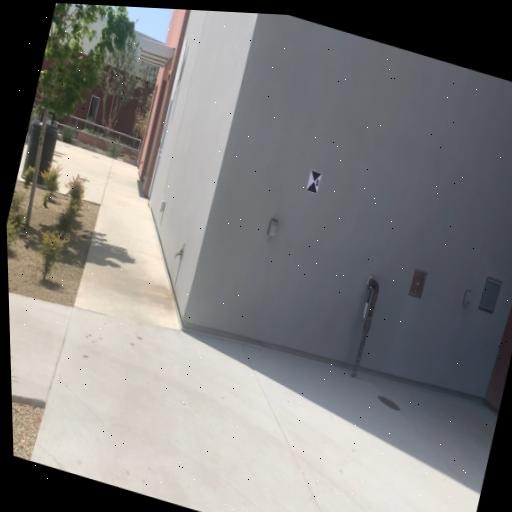target8: (306, 168, 323, 196)
